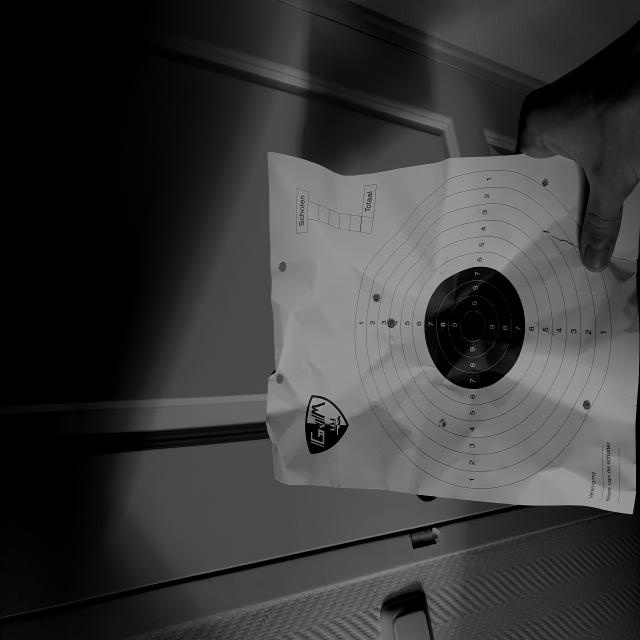1: (540, 175, 551, 189), (583, 400, 591, 410)
3: (372, 294, 383, 302)
4: (438, 418, 447, 429), (387, 318, 396, 328)
Target: (354, 164, 614, 488)
black_contour: (424, 266, 525, 388)
